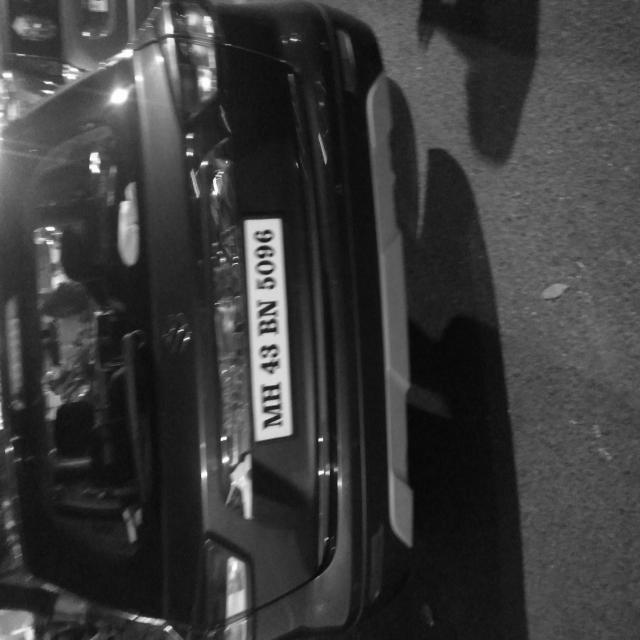car: (1, 0, 480, 578)
license-plate: (144, 322, 318, 394)
